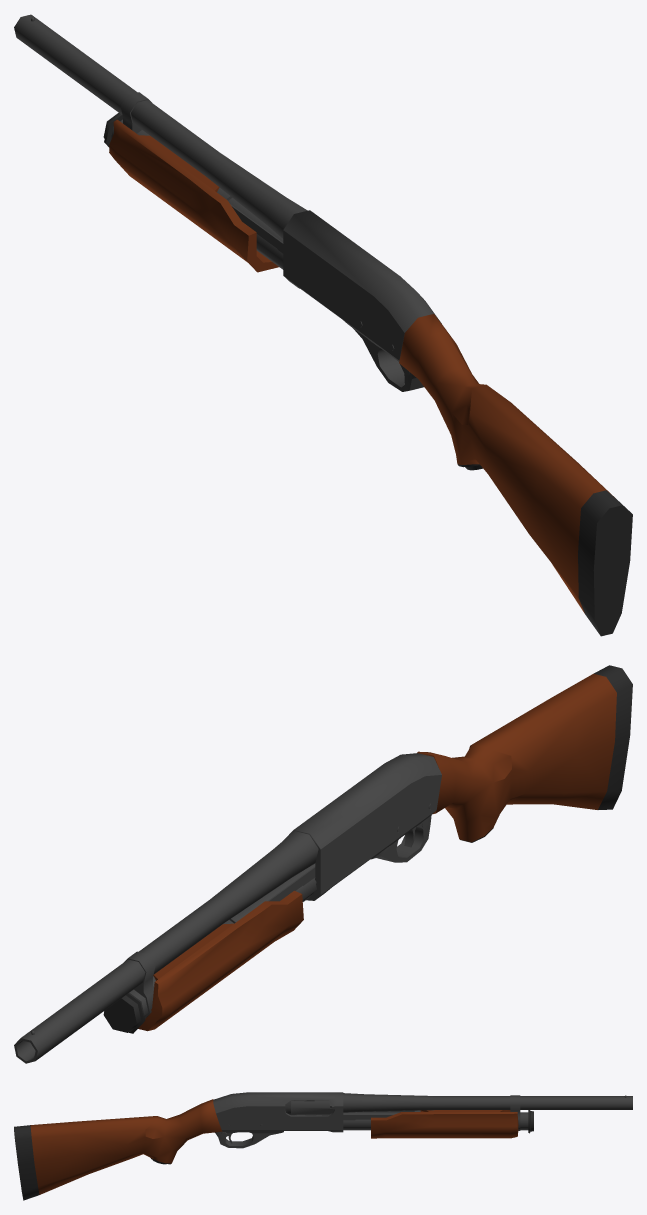
The picture shows the model from 3 angles, top to bottom: view 1: azimuth 30°, elevation 25°; view 2: azimuth 150°, elevation 25°; view 3: azimuth 270°, elevation 25°; orthographic projection. The views are drawn at different scales.
Visible parts, largest first — view 1: buttstock_wooden, receiver, barrel, handguard_wooden, trigger_assembly, magazine_tube; view 2: buttstock_wooden, barrel, receiver, handguard_wooden, magazine_tube_end_cap, trigger_assembly, magazine_tube, forend_tube_assembly; view 3: buttstock_wooden, barrel, receiver, handguard_wooden, bolt, magazine_tube, trigger_assembly, forend_tube_assembly.
Part boxes in pixels (box(x1,y1,x2,y2)): buttstock_wooden: box(399, 314, 632, 636); receiver: box(283, 210, 441, 361); barrel: box(14, 14, 307, 238); handguard_wooden: box(109, 119, 278, 272); trigger_assembly: box(352, 321, 423, 391); magazine_tube: box(110, 119, 283, 269); buttstock_wooden: box(417, 665, 632, 842); barrel: box(14, 831, 318, 1063); receiver: box(283, 753, 441, 900); handguard_wooden: box(138, 890, 303, 1031); magazine_tube_end_cap: box(103, 992, 145, 1033); trigger_assembly: box(371, 803, 432, 862); magazine_tube: box(129, 863, 316, 1016); forend_tube_assembly: box(153, 866, 315, 986); buttstock_wooden: box(14, 1099, 222, 1200); barrel: box(314, 1093, 632, 1130); receiver: box(213, 1092, 343, 1132); handguard_wooden: box(371, 1110, 518, 1138); bolt: box(285, 1100, 334, 1114); magazine_tube: box(343, 1112, 528, 1130); trigger_assembly: box(215, 1124, 283, 1148); forend_tube_assembly: box(306, 1110, 420, 1120).
Bounding box in the file's own units: 5.29 × 17.8 × 95.28.
